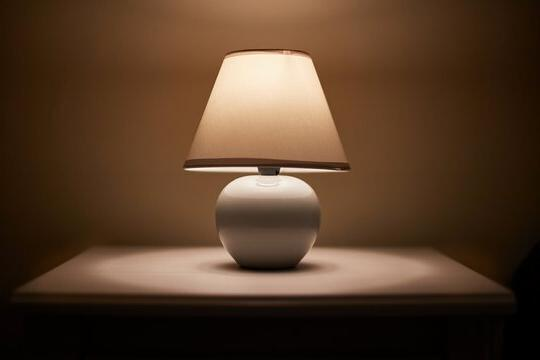light: (183, 49, 351, 272)
table: (0, 245, 514, 360)
